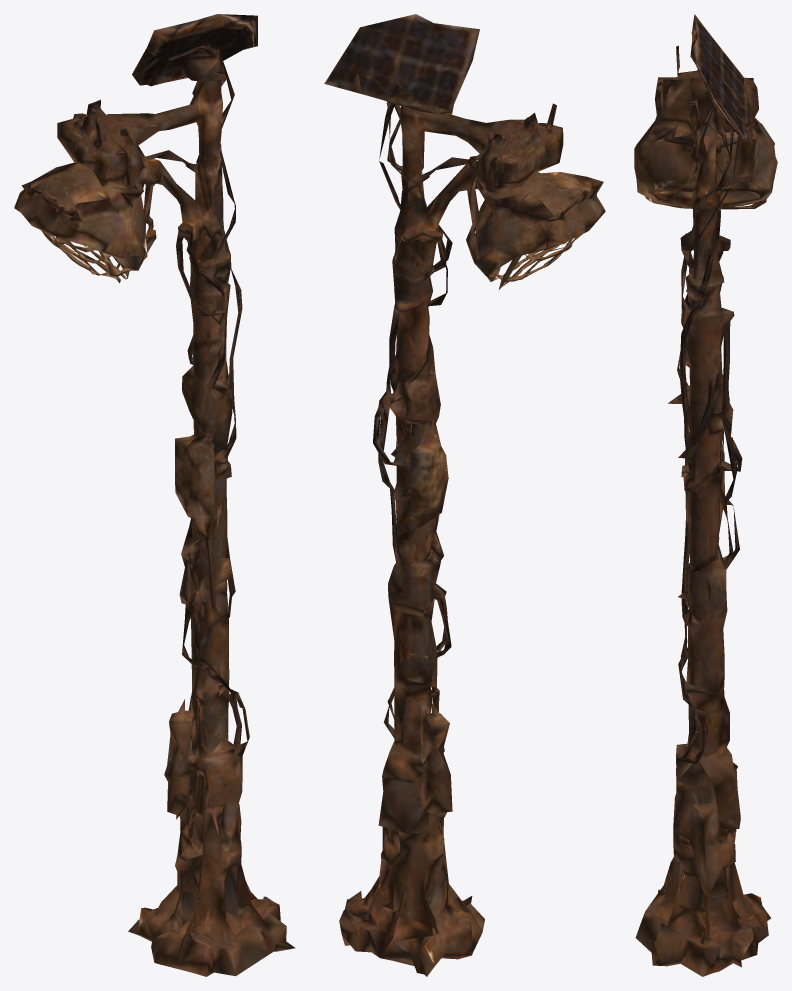
File: lamp.glb
3 views of the same model, side by side, from view 1: azimuth 30°, elevation 25°; view 2: azimuth 150°, elevation 25°; view 3: azimuth 270°, elevation 25° (orthographic). The views are drawn at different scales.
Visible parts, largest first — view 1: Mesh_0; view 2: Mesh_0; view 3: Mesh_0.
Part boxes in pixels (x1,y1,x2,y2): Mesh_0: (14,14,295,976); Mesh_0: (324,14,605,976); Mesh_0: (634,14,777,976).
Bounding box in the file's own units: 0.526 × 1.9 × 0.2743.
1 material, 1 textured.
